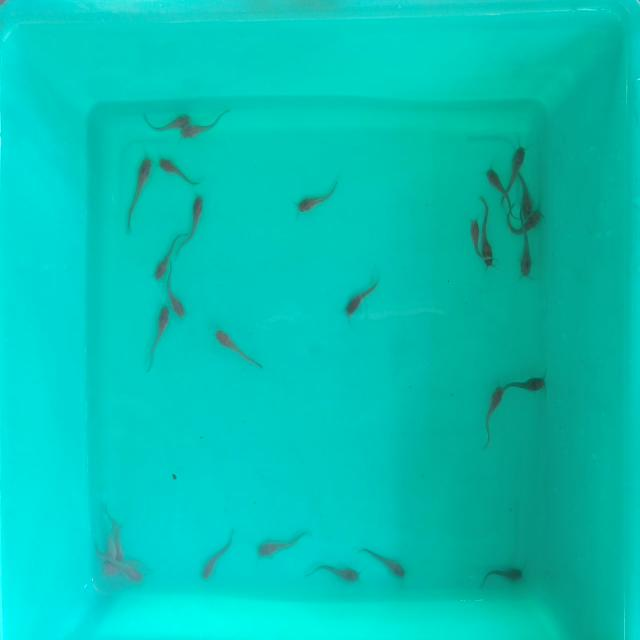lele: (339, 271, 384, 327), (211, 330, 266, 374), (198, 527, 240, 584), (357, 544, 409, 582), (150, 228, 186, 280), (298, 178, 344, 216), (129, 155, 151, 230), (483, 168, 519, 213), (145, 304, 169, 370), (158, 156, 202, 190), (309, 562, 362, 587), (485, 384, 504, 442), (167, 265, 187, 320), (258, 534, 308, 556), (186, 196, 208, 242), (481, 195, 494, 267), (505, 211, 544, 233), (143, 112, 190, 130), (508, 136, 529, 175), (479, 568, 523, 586), (184, 122, 232, 138), (466, 220, 482, 268), (521, 168, 536, 214), (504, 377, 546, 392), (520, 238, 534, 276), (115, 518, 126, 558), (122, 566, 143, 582), (102, 561, 128, 573), (107, 530, 116, 560)
